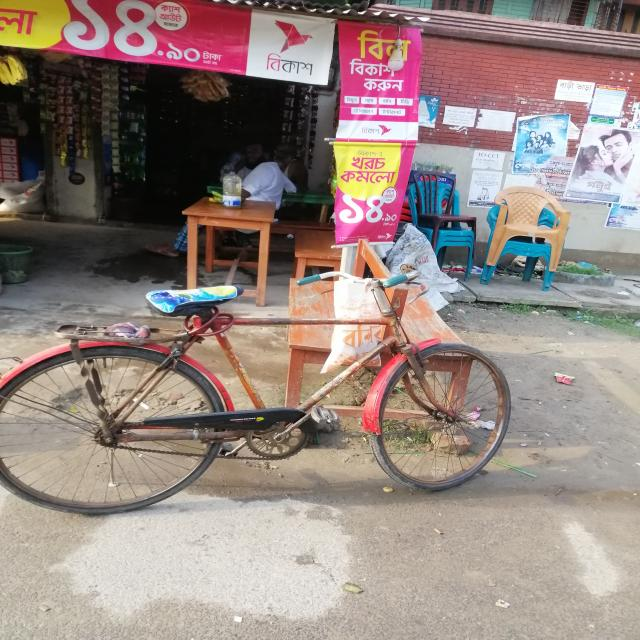Bicycle: (1, 256, 552, 529)
